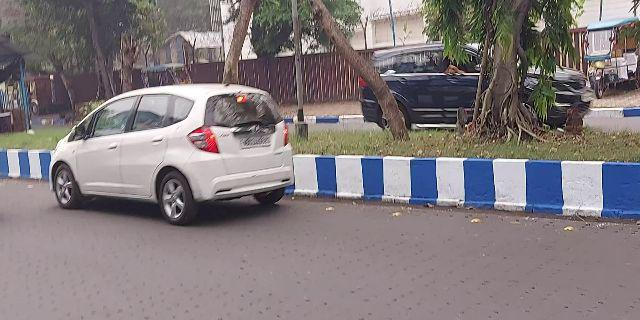Car: (41, 81, 298, 234), (356, 36, 601, 127)
